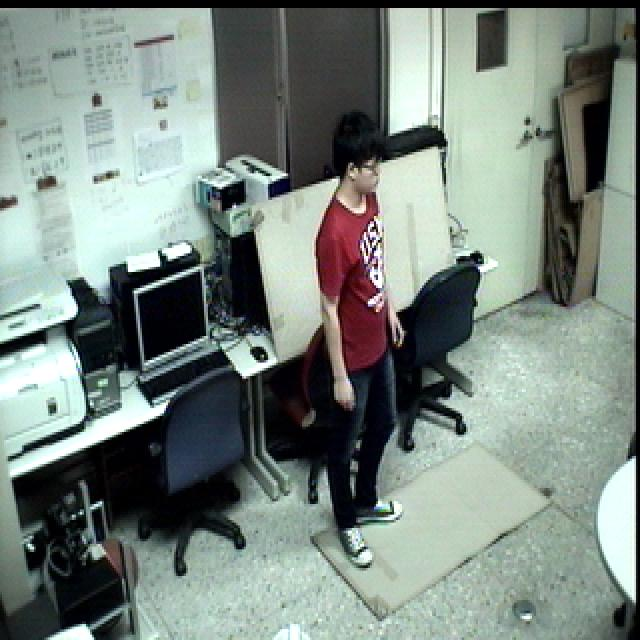stand: (308, 114, 421, 582)
